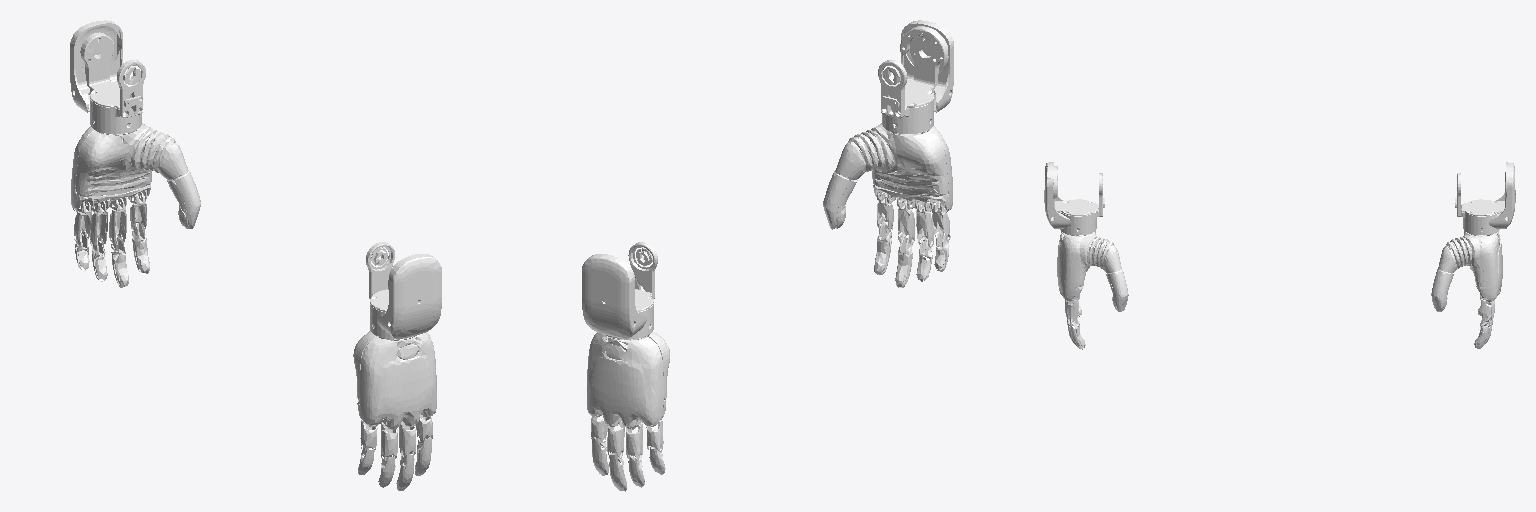
URDF robot description (biped_s43):
<?xml version='1.0' encoding='utf-8'?>
<robot name="biped_s43">
  <mujoco>
    <compiler meshdir="../meshes/" balanceinertia="true" discardvisual="false" />
  </mujoco>
  <link name="base_link">
    <inertial>
      <origin xyz="-0.00505 0.0014 0.18077" rpy="0 0 0" />
      <mass value="21.7789" />
      <inertia ixx="0.28214" ixy="3e-05" ixz="0.01114" iyy="0.20534" iyz="0.00044" izz="0.13735" />
    </inertial>
    <visual>
      <origin xyz="0 0 0" rpy="0 0 0" />
      <geometry>
        <mesh filename="../../meshes/base_link.STL" />
      </geometry>
      <material name="">
        <color rgba="1 1 1 1" />
      </material>
    </visual>
  </link>
  <link name="zarm_l1_link">
    <inertial>
      <origin xyz="-0.00083 -0.02218 0.00035" rpy="0 0 0" />
      <mass value="0.962" />
      <inertia ixx="0.00225" ixy="-3e-05" ixz="0.0" iyy="0.00099" iyz="-2e-05" izz="0.00227" />
    </inertial>
    <visual>
      <origin xyz="0 0 0" rpy="0 0 0" />
      <geometry>
        <mesh filename="../../meshes/l_arm_pitch.STL" />
      </geometry>
      <material name="">
        <color rgba="1 1 1 1" />
      </material>
    </visual>
  </link>
  <joint name="zarm_l1_joint" type="revolute">
    <origin xyz="-0.0175 0.28469999999999995 0.3245" rpy="0 0 0" />
    <parent link="base_link" />
    <child link="zarm_l1_link" />
    <axis xyz="0 1 0" />
    <limit lower="-3.14159265358979" upper="1.5707963267949" effort="100.0" velocity="41.3433333333333" />
  </joint>
  <link name="zarm_l2_link">
    <inertial>
      <origin xyz="-0.00791 0.0 -0.04655" rpy="0 0 0" />
      <mass value="0.57" />
      <inertia ixx="0.00163" ixy="0.0" ixz="5e-05" iyy="0.00211" iyz="0.0" izz="0.00122" />
    </inertial>
    <visual>
      <origin xyz="0 0 0" rpy="0 0 0" />
      <geometry>
        <mesh filename="../../meshes/l_arm_roll.STL" />
      </geometry>
      <material name="">
        <color rgba="1 1 1 1" />
      </material>
    </visual>
  </link>
  <joint name="zarm_l2_joint" type="revolute">
    <origin xyz="0 0 0" rpy="0 0 0" />
    <parent link="zarm_l1_link" />
    <child link="zarm_l2_link" />
    <axis xyz="1 0 0" />
    <limit lower="-0.349065850398866" upper="2.0943951023932" effort="50.0" velocity="19.154" />
  </joint>
  <link name="zarm_l3_link">
    <inertial>
      <origin xyz="0.00628 0.00107 -0.20878" rpy="0 0 0" />
      <mass value="1.65" />
      <inertia ixx="0.00815" ixy="-4e-05" ixz="0.00085" iyy="0.00828" iyz="0.00014" izz="0.00206" />
    </inertial>
    <visual>
      <origin xyz="0 0 0" rpy="0 0 0" />
      <geometry>
        <mesh filename="../../meshes/l_arm_yaw.STL" />
      </geometry>
      <material name="">
        <color rgba="1 1 1 1" />
      </material>
    </visual>
  </link>
  <joint name="zarm_l3_joint" type="revolute">
    <origin xyz="0 0 0" rpy="0 0 0" />
    <parent link="zarm_l2_link" />
    <child link="zarm_l3_link" />
    <axis xyz="0 0 1" />
    <limit lower="-1.5707963267949" upper="1.5707963267949" effort="39.0" velocity="18.84" />
  </joint>
  <link name="zarm_l4_link">
    <inertial>
      <origin xyz="-0.01611 0.00143 -0.04857" rpy="0 0 0" />
      <mass value="0.429" />
      <inertia ixx="0.00135" ixy="0.0" ixz="-0.0001" iyy="0.00114" iyz="0.0" izz="0.00083" />
    </inertial>
    <visual>
      <origin xyz="0 0 0" rpy="0 0 0" />
      <geometry>
        <mesh filename="../../meshes/l_forearm.STL" />
      </geometry>
      <material name="">
        <color rgba="1 1 1 1" />
      </material>
    </visual>
  </link>
  <joint name="zarm_l4_joint" type="revolute">
    <origin xyz="0.0200000000000006 0 -0.283699999999996" rpy="0 0 0" />
    <parent link="zarm_l3_link" />
    <child link="zarm_l4_link" />
    <axis xyz="0 1 0" />
    <limit lower="-2.61799387799149" upper="0.0" effort="50.0" velocity="18.84" />
  </joint>
  <link name="zarm_l5_link">
    <inertial>
      <origin xyz="-0.00207 0.00018 -0.05079" rpy="0 0 0" />
      <mass value="0.61" />
      <inertia ixx="0.00107" ixy="0.0" ixz="-4e-05" iyy="0.00146" iyz="0.0" izz="0.00083" />
    </inertial>
    <visual>
      <origin xyz="0 0 0" rpy="0 0 0" />
      <geometry>
        <mesh filename="../../meshes/l_hand_yaw.STL" />
      </geometry>
      <material name="">
        <color rgba="1 1 1 1" />
      </material>
    </visual>
  </link>
  <joint name="zarm_l5_joint" type="revolute">
    <origin xyz="-0.0200000000000025 0 -0.127037274261591" rpy="0 0 0" />
    <parent link="zarm_l4_link" />
    <child link="zarm_l5_link" />
    <axis xyz="0 0 1" />
    <limit lower="-1.5707963267949" upper="1.5707963267949" effort="12.0" velocity="21.666" />
  </joint>
  <link name="zarm_l6_link">
    <inertial>
      <origin xyz="-0.00111 0.00335 -0.01335" rpy="0 0 0" />
      <mass value="0.331" />
      <inertia ixx="0.00022" ixy="0.0" ixz="0.0" iyy="0.00027" iyz="0.0" izz="0.00028" />
    </inertial>
    <visual>
      <origin xyz="0 0 0" rpy="0 0 0" />
      <geometry>
        <mesh filename="../../meshes/l_hand_roll.STL" />
      </geometry>
      <material name="">
        <color rgba="1 1 1 1" />
      </material>
    </visual>
  </link>
  <joint name="zarm_l6_joint" type="revolute">
    <origin xyz="0.000199999999999079 0 -0.106462725738415" rpy="0 0 0" />
    <parent link="zarm_l5_link" />
    <child link="zarm_l6_link" />
    <axis xyz="1 0 0" />
    <limit lower="-1.30899693899575" upper="0.698131700797732" effort="12.0" velocity="21.666" />
  </joint>
  <link name="zarm_l7_link">
    <inertial>
      <origin xyz="0.00186 0.01014 -0.09044" rpy="0 0 0" />
      <mass value="0.64" />
      <inertia ixx="0.00071" ixy="1e-05" ixz="2e-05" iyy="0.0007" iyz="-4e-05" izz="0.00012" />
    </inertial>
    <visual>
      <origin xyz="0 0 0" rpy="0 0 0" />
      <geometry>
        <mesh filename="../../meshes/l_hand_pitch.STL" />
      </geometry>
      <material name="">
        <color rgba="1 1 1 1" />
      </material>
    </visual>
  </link>
  <joint name="zarm_l7_joint" type="revolute">
    <origin xyz="0 0 -0.0210004653879916" rpy="0 0 0" />
    <parent link="zarm_l6_link" />
    <child link="zarm_l7_link" />
    <axis xyz="0 1 0" />
    <limit lower="-0.698131700797732" upper="0.698131700797732" effort="12.0" velocity="21.666" />
  </joint>
  <link name="zarm_l7_end_effector">
    <collision>
      <origin rpy="0 0 0" xyz="0 0 0" />
      <geometry>
        <sphere radius="0.005" />
      </geometry>
    </collision>
  </link>
  <joint name="zarm_l7_end_effector_joint" type="fixed">
    <origin xyz="0 -0.03 -0.17" rpy="0 0 0" />
    <parent link="zarm_l7_link" />
    <child link="zarm_l7_end_effector" />
  </joint>
  <link name="zarm_r1_link">
    <inertial>
      <origin xyz="-0.00083 0.02218 0.00035" rpy="0 0 0" />
      <mass value="0.962" />
      <inertia ixx="0.00225" ixy="3e-05" ixz="0.0" iyy="0.00099" iyz="2e-05" izz="0.00227" />
    </inertial>
    <visual>
      <origin xyz="0 0 0" rpy="0 0 0" />
      <geometry>
        <mesh filename="../../meshes/r_arm_pitch.STL" />
      </geometry>
      <material name="">
        <color rgba="1 1 1 1" />
      </material>
    </visual>
  </link>
  <joint name="zarm_r1_joint" type="revolute">
    <origin xyz="-0.0175 -0.28469999999999995 0.3245" rpy="0 0 0" />
    <parent link="base_link" />
    <child link="zarm_r1_link" />
    <axis xyz="0 1 0" />
    <limit lower="-3.14159265358979" upper="1.5707963267949" effort="100.0" velocity="41.3433333333333" />
  </joint>
  <link name="zarm_r2_link">
    <inertial>
      <origin xyz="-0.00791 0.0 -0.04655" rpy="0 0 0" />
      <mass value="0.57" />
      <inertia ixx="0.00163" ixy="0.0" ixz="5e-05" iyy="0.00211" iyz="0.0" izz="0.00122" />
    </inertial>
    <visual>
      <origin xyz="0 0 0" rpy="0 0 0" />
      <geometry>
        <mesh filename="../../meshes/r_arm_roll.STL" />
      </geometry>
      <material name="">
        <color rgba="1 1 1 1" />
      </material>
    </visual>
  </link>
  <joint name="zarm_r2_joint" type="revolute">
    <origin xyz="0 0 0" rpy="0 0 0" />
    <parent link="zarm_r1_link" />
    <child link="zarm_r2_link" />
    <axis xyz="1 0 0" />
    <limit lower="-2.0943951023932" upper="0.349065850398866" effort="50.0" velocity="19.154" />
  </joint>
  <link name="zarm_r3_link">
    <inertial>
      <origin xyz="0.00628 -0.00107 -0.20878" rpy="0 0 0" />
      <mass value="1.65" />
      <inertia ixx="0.00815" ixy="4e-05" ixz="0.00085" iyy="0.00828" iyz="-0.00014" izz="0.00206" />
    </inertial>
    <visual>
      <origin xyz="0 0 0" rpy="0 0 0" />
      <geometry>
        <mesh filename="../../meshes/r_arm_yaw.STL" />
      </geometry>
      <material name="">
        <color rgba="1 1 1 1" />
      </material>
    </visual>
  </link>
  <joint name="zarm_r3_joint" type="revolute">
    <origin xyz="0 0 0" rpy="0 0 0" />
    <parent link="zarm_r2_link" />
    <child link="zarm_r3_link" />
    <axis xyz="0 0 1" />
    <limit lower="-1.5707963267949" upper="1.5707963267949" effort="39.0" velocity="18.84" />
  </joint>
  <link name="zarm_r4_link">
    <inertial>
      <origin xyz="-0.01611 -0.00143 -0.04857" rpy="0 0 0" />
      <mass value="0.429" />
      <inertia ixx="0.00135" ixy="0.0" ixz="-0.0001" iyy="0.00114" iyz="0.0" izz="0.00083" />
    </inertial>
    <visual>
      <origin xyz="0 0 0" rpy="0 0 0" />
      <geometry>
        <mesh filename="../../meshes/r_forearm.STL" />
      </geometry>
      <material name="">
        <color rgba="1 1 1 1" />
      </material>
    </visual>
  </link>
  <joint name="zarm_r4_joint" type="revolute">
    <origin xyz="0.0200000000000024 0 -0.2837" rpy="0 0 0" />
    <parent link="zarm_r3_link" />
    <child link="zarm_r4_link" />
    <axis xyz="0 1 0" />
    <limit lower="-2.61799387799149" upper="0.0" effort="50.0" velocity="18.84" />
  </joint>
  <link name="zarm_r5_link">
    <inertial>
      <origin xyz="-0.00207 -0.00018 -0.05079" rpy="0 0 0" />
      <mass value="0.61" />
      <inertia ixx="0.00107" ixy="0.0" ixz="-4e-05" iyy="0.00146" iyz="0.0" izz="0.00083" />
    </inertial>
    <visual>
      <origin xyz="0 0 0" rpy="0 0 0" />
      <geometry>
        <mesh filename="../../meshes/r_hand_yaw.STL" />
      </geometry>
      <material name="">
        <color rgba="1 1 1 1" />
      </material>
    </visual>
  </link>
  <joint name="zarm_r5_joint" type="revolute">
    <origin xyz="-0.0200000000000001 0 -0.127037274261587" rpy="0 0 0" />
    <parent link="zarm_r4_link" />
    <child link="zarm_r5_link" />
    <axis xyz="0 0 1" />
    <limit lower="-1.5707963267949" upper="1.5707963267949" effort="12.0" velocity="21.666" />
  </joint>
  <link name="zarm_r6_link">
    <inertial>
      <origin xyz="-0.00111 -0.00335 -0.01335" rpy="0 0 0" />
      <mass value="0.331" />
      <inertia ixx="0.00022" ixy="0.0" ixz="0.0" iyy="0.00027" iyz="0.0" izz="0.00028" />
    </inertial>
    <visual>
      <origin xyz="0 0 0" rpy="0 0 0" />
      <geometry>
        <mesh filename="../../meshes/r_hand_roll.STL" />
      </geometry>
      <material name="">
        <color rgba="1 1 1 1" />
      </material>
    </visual>
  </link>
  <joint name="zarm_r6_joint" type="revolute">
    <origin xyz="0 0 -0.106462725738415" rpy="0 0 0" />
    <parent link="zarm_r5_link" />
    <child link="zarm_r6_link" />
    <axis xyz="1 0 0" />
    <limit lower="-0.698131700797732" upper="1.30899693899575" effort="12.0" velocity="21.666" />
  </joint>
  <link name="zarm_r7_link">
    <inertial>
      <origin xyz="0.00186 -0.01014 -0.09044" rpy="0 0 0" />
      <mass value="0.64" />
      <inertia ixx="0.00069" ixy="-1e-05" ixz="2e-05" iyy="0.00068" iyz="5e-05" izz="0.00012" />
    </inertial>
    <visual>
      <origin xyz="0 0 0" rpy="0 0 0" />
      <geometry>
        <mesh filename="../../meshes/r_hand_pitch.STL" />
      </geometry>
      <material name="">
        <color rgba="1 1 1 1" />
      </material>
    </visual>
  </link>
  <joint name="zarm_r7_joint" type="revolute">
    <origin xyz="0 0 -0.0209999999999999" rpy="0 0 0" />
    <parent link="zarm_r6_link" />
    <child link="zarm_r7_link" />
    <axis xyz="0 1 0" />
    <limit lower="-0.698131700797732" upper="0.698131700797732" effort="12.0" velocity="21.666" />
  </joint>
  <link name="zarm_r7_end_effector">
    <collision>
      <origin rpy="0 0 0" xyz="0 0 0" />
      <geometry>
        <sphere radius="0.005" />
      </geometry>
    </collision>
  </link>
  <joint name="zarm_r7_end_effector_joint" type="fixed">
    <origin xyz="0 0.03 -0.17" rpy="0 0 0" />
    <parent link="zarm_r7_link" />
    <child link="zarm_r7_end_effector" />
  </joint>
  </robot>

--- Render facts (derived) ---
3 views of the same robot in one strip: view 1: azimuth 30°, elevation 25°; view 2: azimuth 150°, elevation 25°; view 3: azimuth 270°, elevation 25° (orthographic).
Robot: biped_s43 — 17 links, 16 joints (14 revolute, 2 fixed); root link base_link; default pose: every joint at zero.
Links seen in each view (by area): view 1: zarm_l7_link, zarm_r7_link; view 2: zarm_r7_link, zarm_l7_link; view 3: zarm_r7_link, zarm_l7_link.
Boxes of the visible links, bbox=[...] form: zarm_l7_link: bbox=[70, 20, 200, 287]; zarm_r7_link: bbox=[353, 242, 441, 490]; zarm_r7_link: bbox=[823, 20, 953, 287]; zarm_l7_link: bbox=[582, 242, 669, 491]; zarm_r7_link: bbox=[1044, 162, 1128, 349]; zarm_l7_link: bbox=[1431, 162, 1515, 348].
Bounding box of the posed robot: 0.1091 × 0.6638 × 0.2817 m (x, y, z).
Meshes: 15 distinct files referenced, 2 mesh visuals loaded (2 binary STL); not drawn: 13 (reference not matched to a file when rendering).